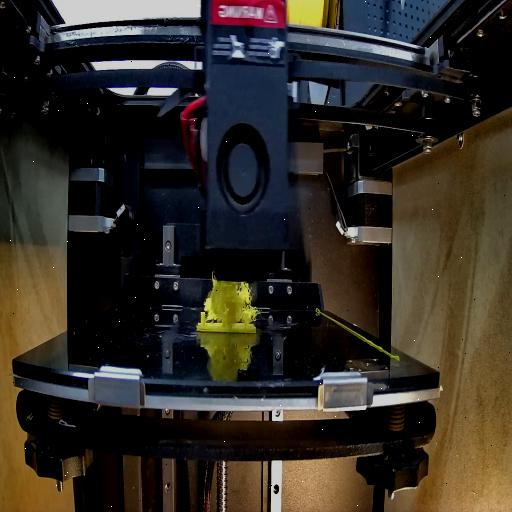spaghetti: (207, 276, 257, 322)
